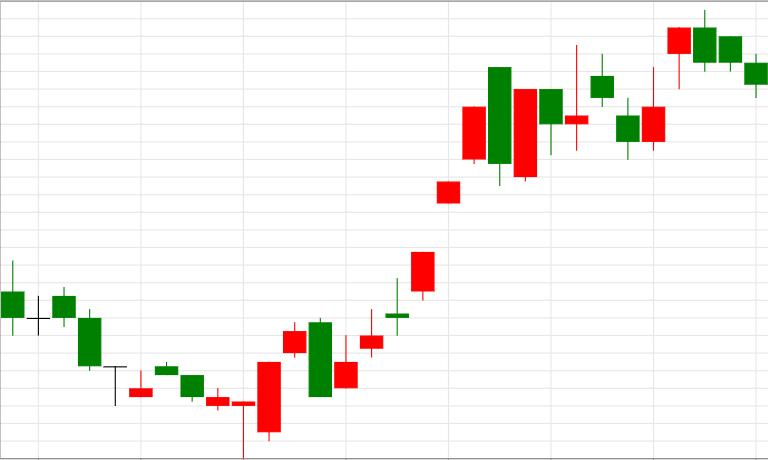bearish_engulfing_fall: (335, 66, 511, 388)
